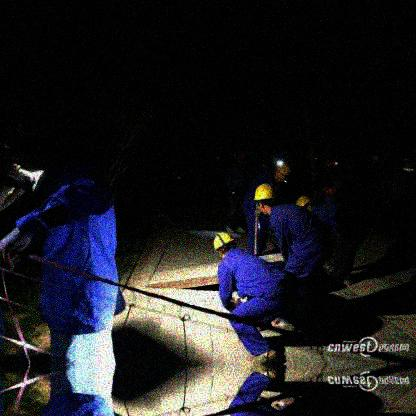helmet: (252, 184, 276, 215), (213, 233, 235, 259), (274, 161, 288, 183), (235, 149, 247, 164)
